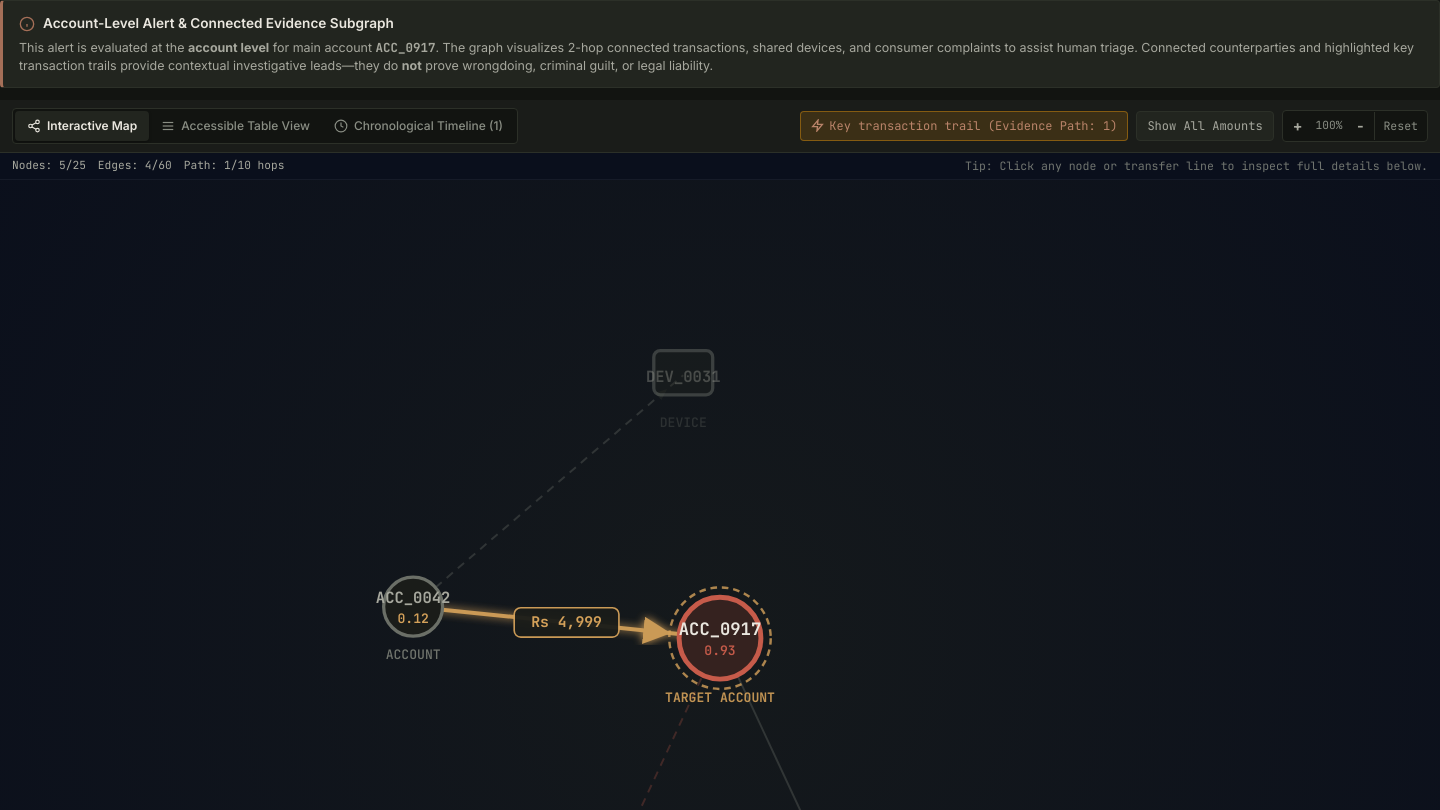
EvidenceGraphCanvas Component › switches to accessible table view and renders structured tables
The width and height of the screenshot is (1440, 810).
Click the tab "Accessible Table View" at (236, 126), box 149,111 -> 322,141
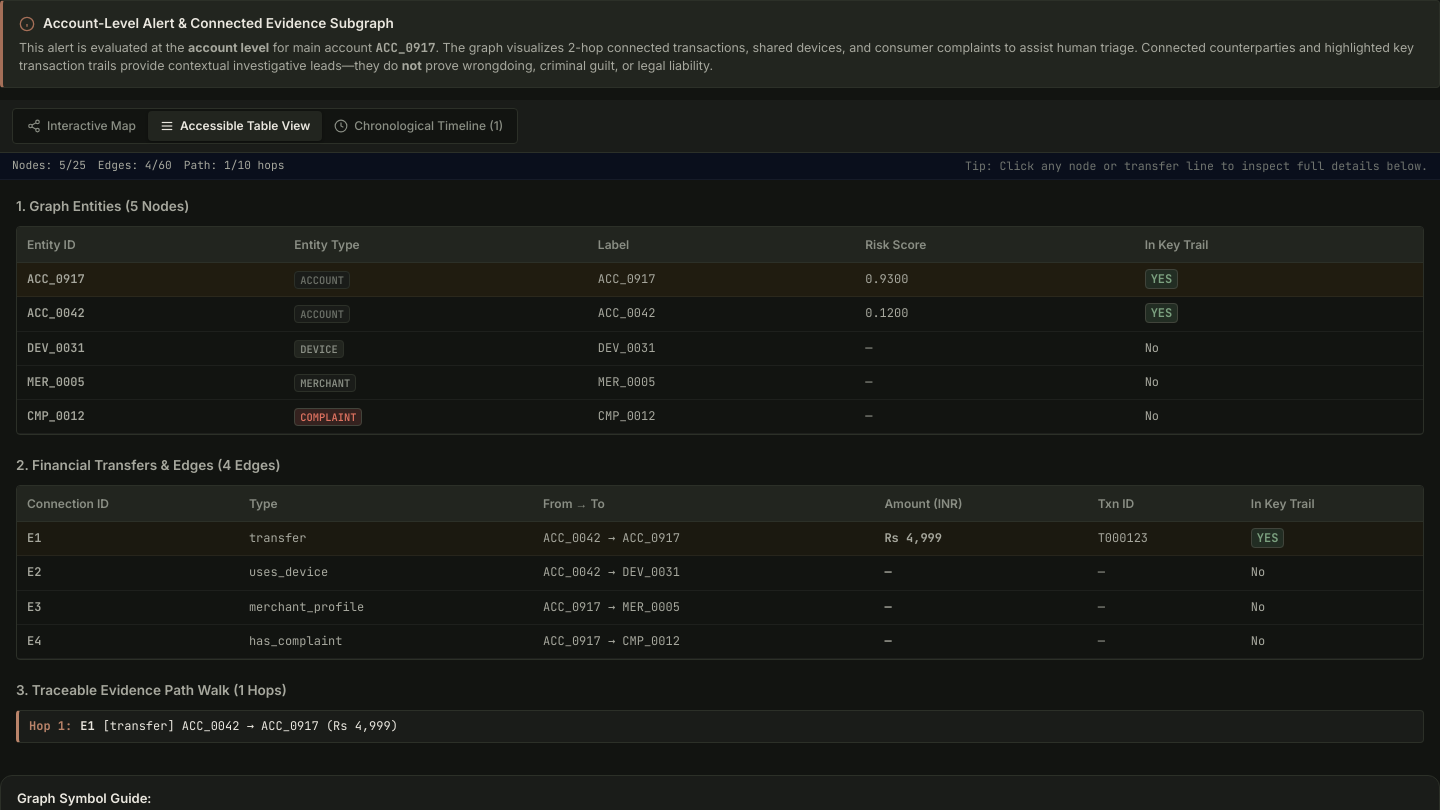
Result: the table named "Evidence Graph Nodes Table" is shown at 17,227 -> 1423,434
Result: the table named "Evidence Graph Edges Table" is shown at 17,486 -> 1423,659
Result: the cell "E1" is shown at 17,522 -> 239,556
